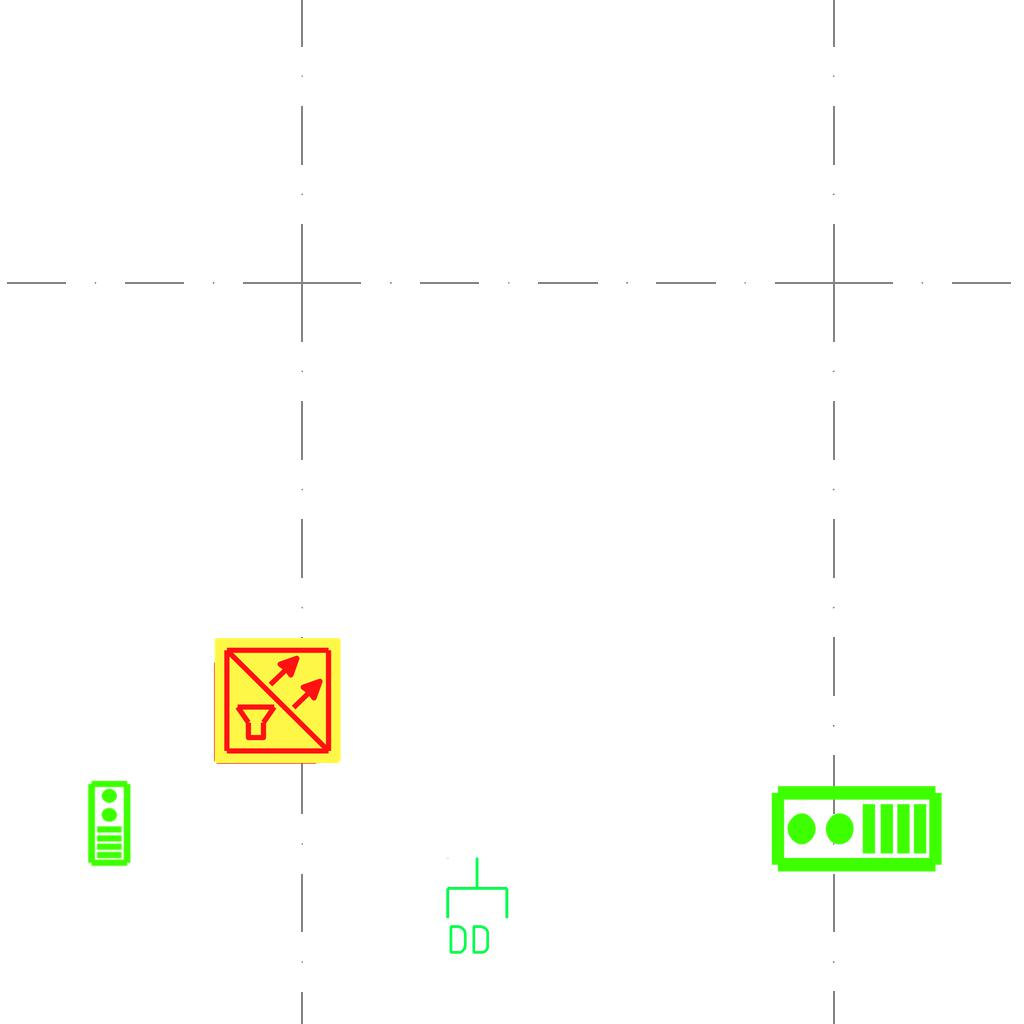Datenanschluss_zweifach: (442, 855, 511, 958)
Gegensprechanlage_mit_Video: (768, 783, 944, 878), (85, 779, 132, 867)
OKW_Multisensormelder_(Kombination_optischer_Rauch-Kahlenmonoxid_Waerme-Melder): (212, 635, 344, 767)
